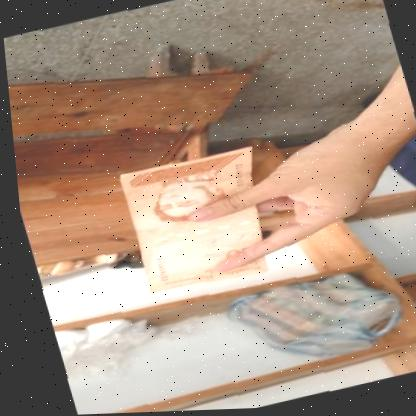twenty-front-vef: (110, 144, 282, 300)
